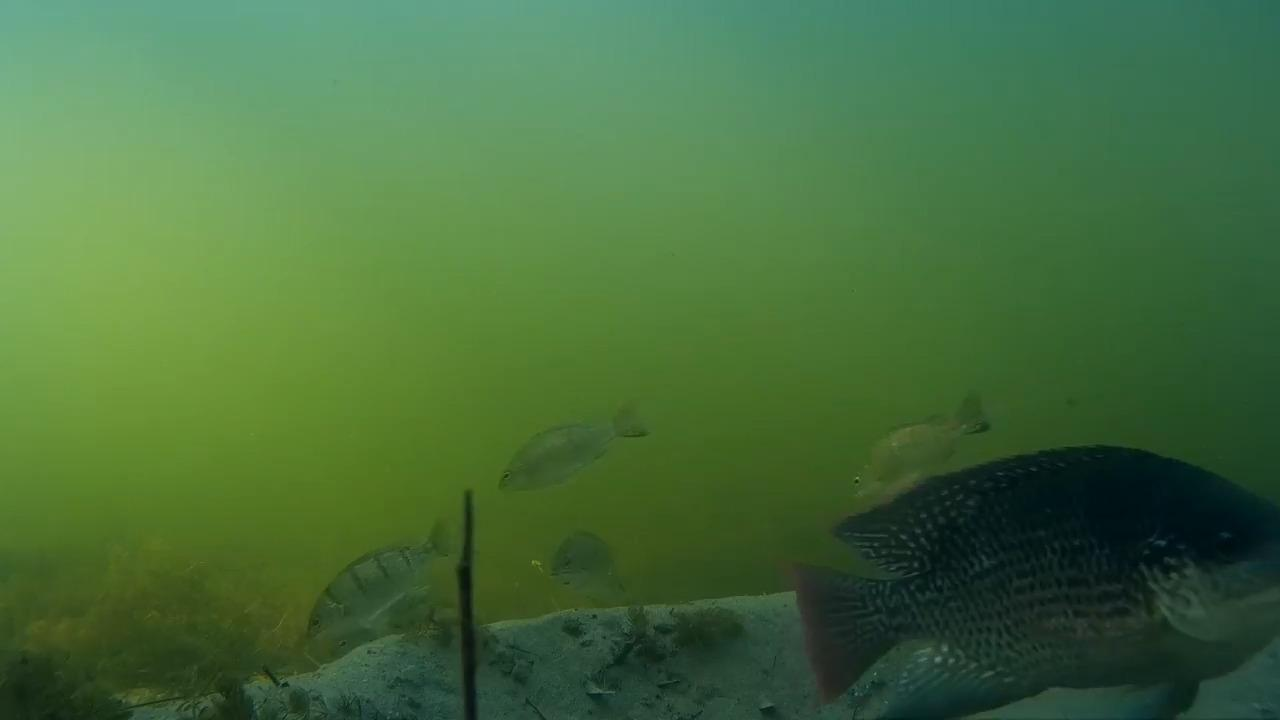Tilapia: (806, 411, 1280, 720), (288, 524, 461, 648), (478, 407, 641, 500), (857, 394, 986, 510), (544, 528, 631, 598)
